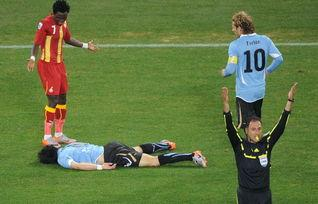down: (35, 138, 209, 171)
up: (24, 1, 100, 147), (216, 82, 300, 204), (221, 10, 284, 128)
